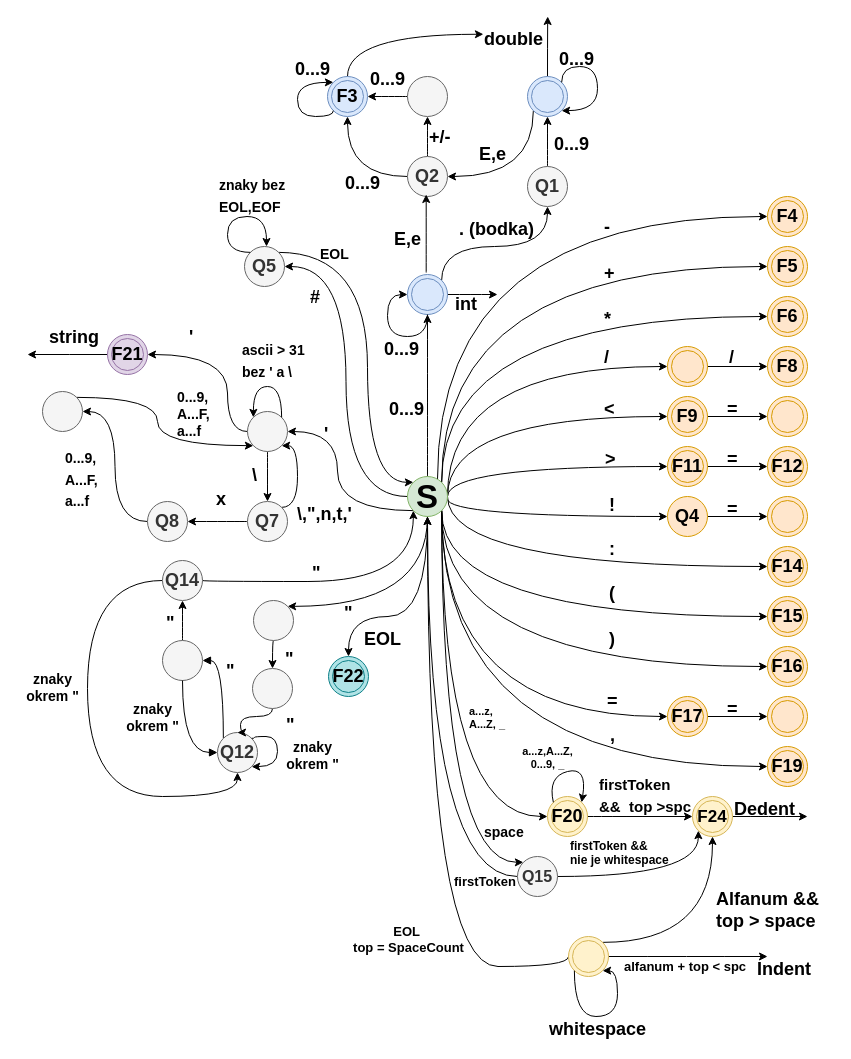
Some shapes in this 851 by 1059 pixel diagram are drawn without their labels. The centre of each missing label's shape, as x and y in pixels:
"F1" belongs at point (427, 294).
"F10" belongs at point (787, 416).
"F13" belongs at point (787, 516).
"F18" belongs at point (787, 716).
"F2" belongs at point (547, 96).
"F23" belongs at point (588, 956).
"F7" belongs at point (687, 366).
"Q10" belongs at point (273, 620).
"Q11" belongs at point (272, 688).
"Q13" belongs at point (182, 660).
"Q3" belongs at point (427, 96).
"Q6" belongs at point (267, 431).
"Q9" belongs at point (62, 411).
